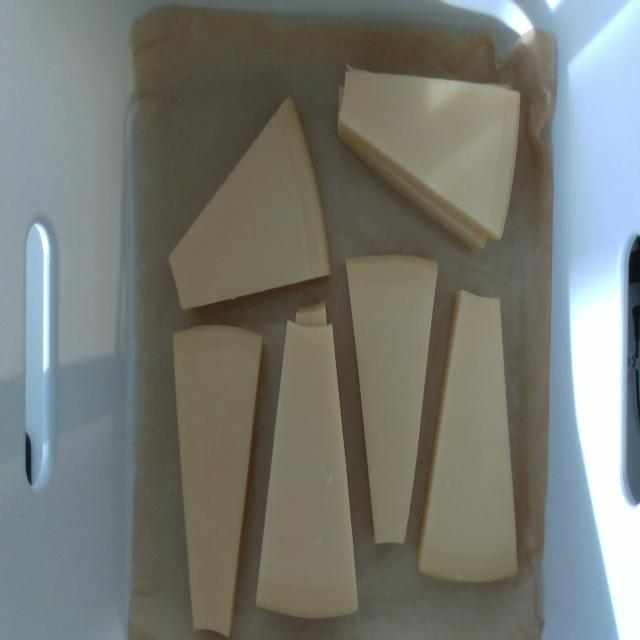Cheese: (170, 99, 330, 308), (339, 71, 520, 240), (256, 320, 359, 616), (418, 289, 518, 581), (174, 326, 262, 635), (346, 256, 437, 543)
